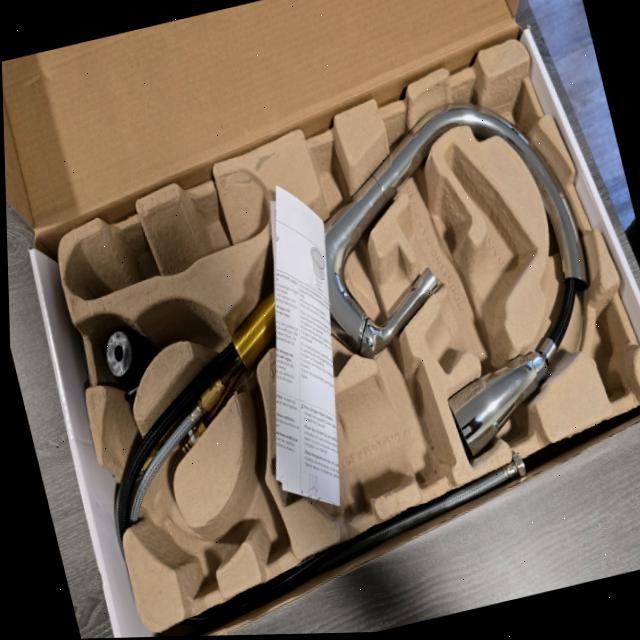1o: (113, 99, 587, 531)
2m: (424, 144, 535, 371)
3m: (271, 360, 455, 522)
4m: (63, 166, 268, 300)
5: (105, 324, 145, 421)
6m: (150, 499, 226, 598)
7m: (218, 437, 290, 565)
8: (269, 181, 340, 506)
